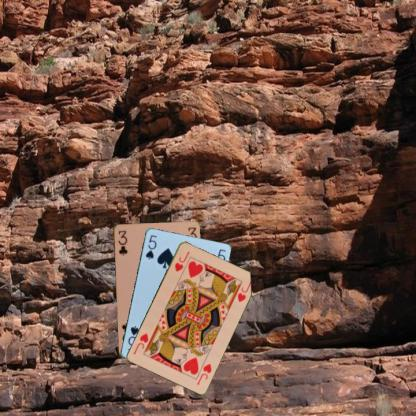3c: (115, 228, 129, 257)
5s: (142, 232, 158, 261)
Jh: (194, 360, 213, 386), (172, 248, 191, 273)
